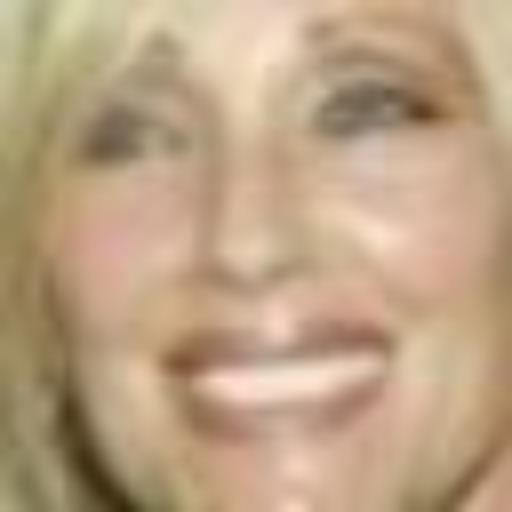left_eye: (301, 85, 446, 141)
left_lip_corner: (363, 327, 416, 376)
right_eye: (72, 106, 192, 174)
right_lip_corner: (150, 347, 204, 391)
